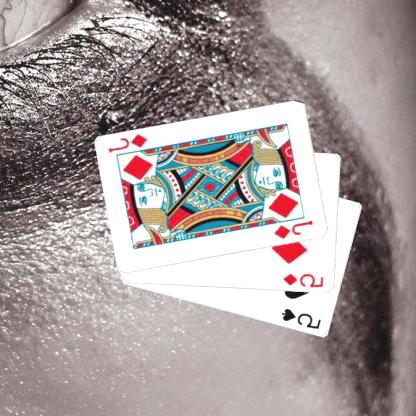5D: (282, 271, 326, 289)
5S: (280, 306, 324, 331)
JD: (273, 217, 316, 241), (108, 132, 150, 154)
